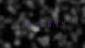eight: (45, 19, 51, 27)
four: (59, 19, 65, 27)
nine: (52, 19, 58, 27)
one: (17, 20, 23, 28), (31, 20, 37, 28)
six: (24, 20, 30, 28)
zero: (38, 20, 44, 27)
